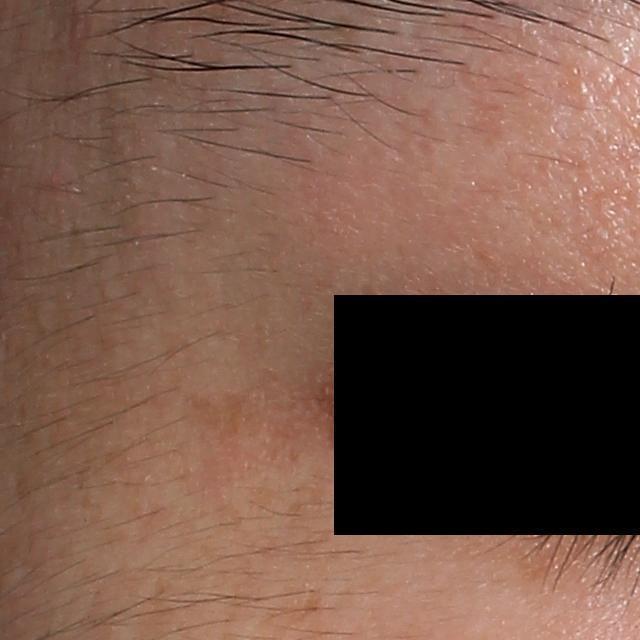melasma: (177, 384, 294, 460), (503, 521, 623, 584)
